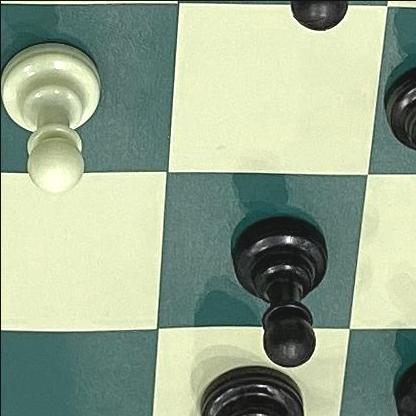black-knight: (170, 353, 311, 416)
black-pawn: (211, 194, 335, 364), (374, 53, 416, 230), (255, 0, 386, 49)
white-pawn: (0, 37, 127, 206)
